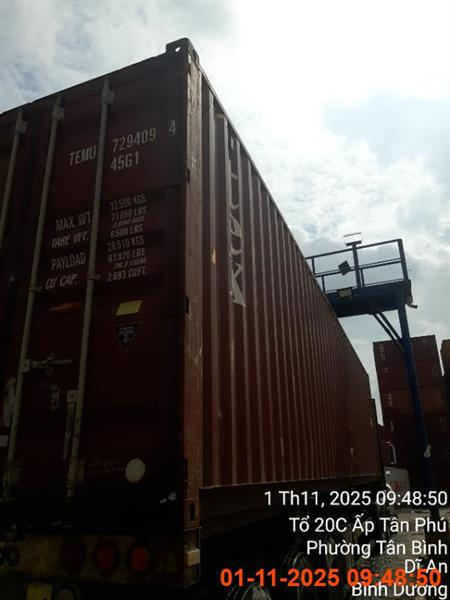hole: (1, 38, 398, 597)
